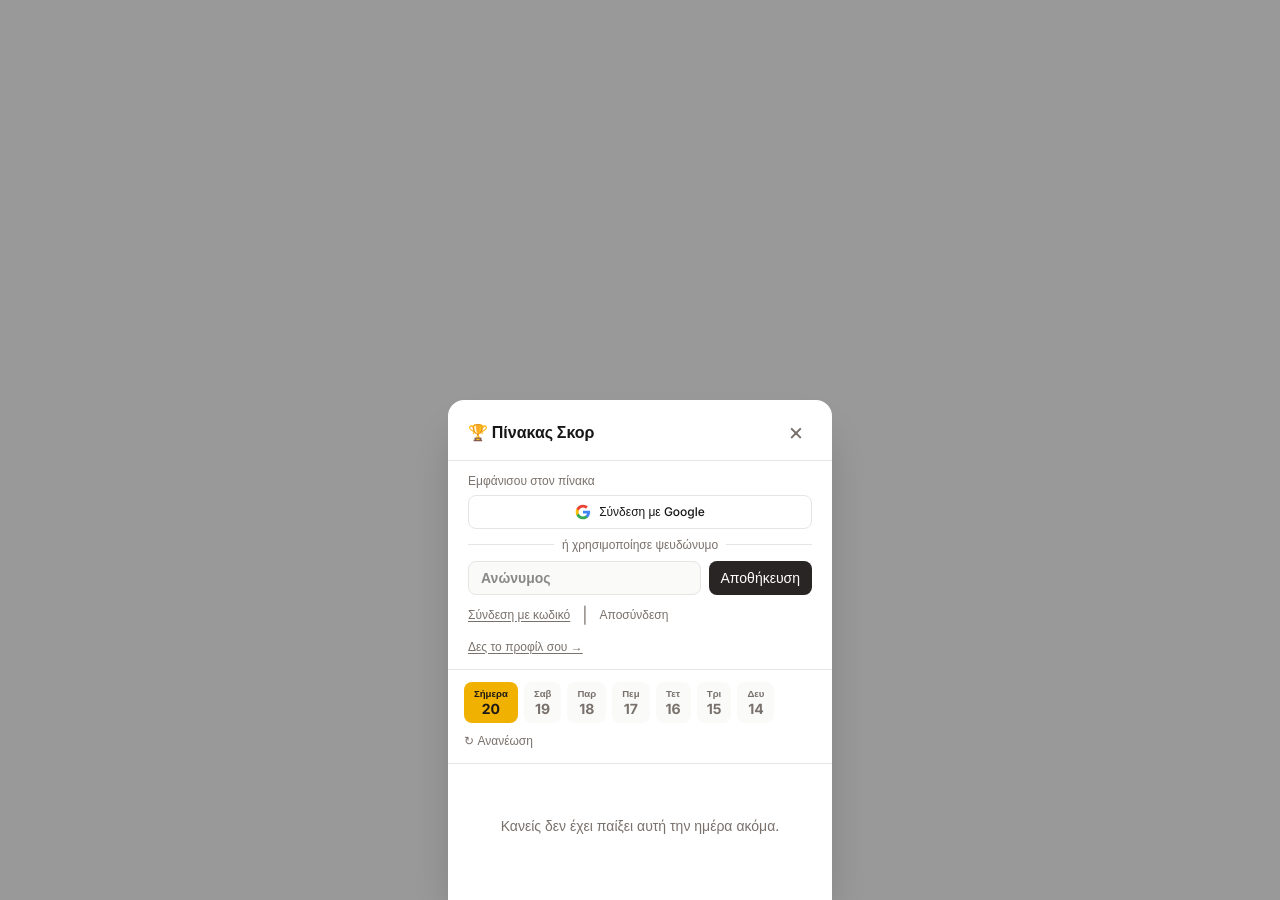
Test: LeaderboardModal — profile section (idle, unlinked) › clicking 'Αποσύνδεση' shows confirmation row
The width and height of the screenshot is (1280, 900).
What coordinates should you click on to do the following:
click the button "Αποσύνδεση"
I would click on:
 (634, 614)
Its box is [600,606,668,622].
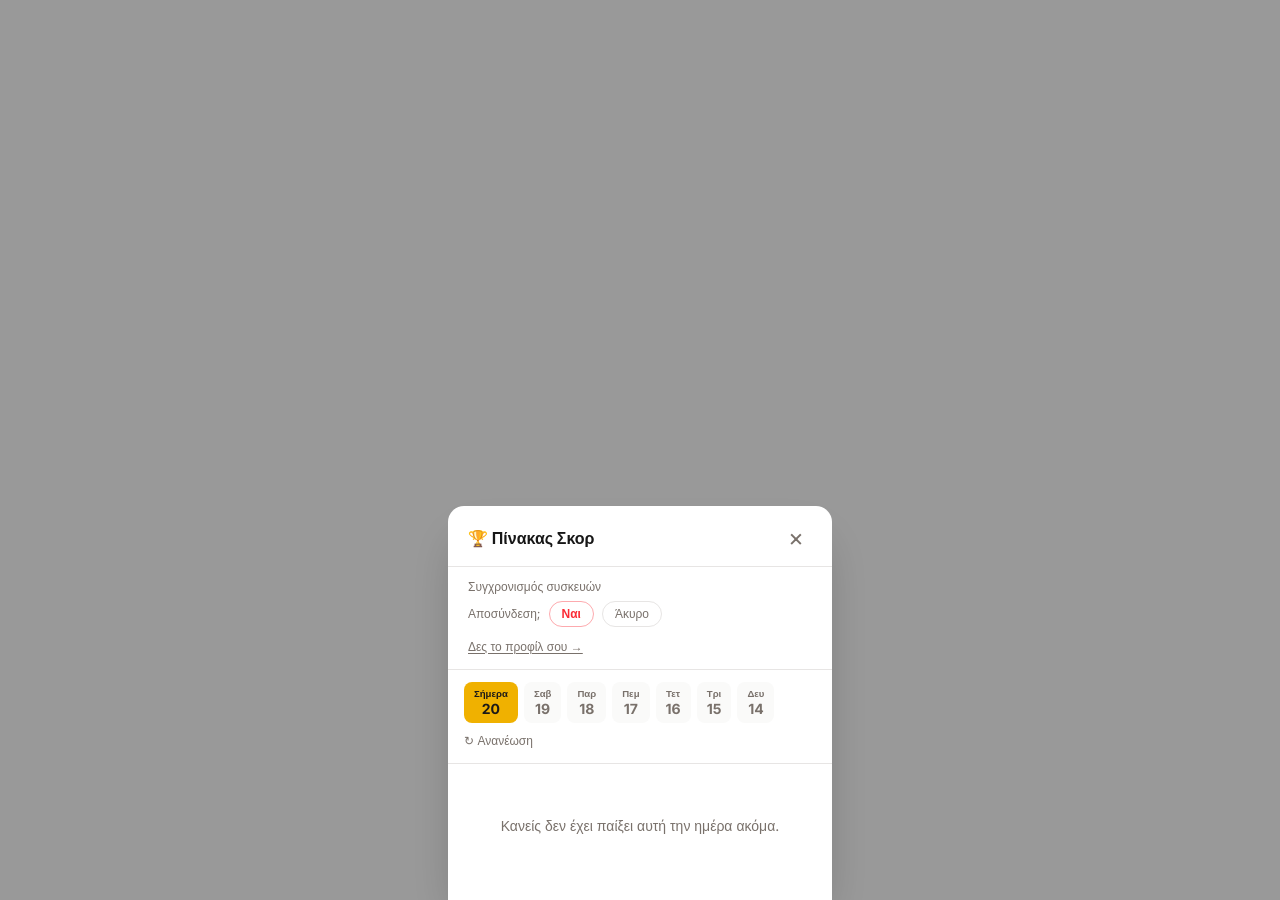
Check: the button with test id "btn-disconnect-confirm" is shown, box [548,600,594,626]
Check: the button with test id "btn-disconnect-cancel" is shown, box [602,600,662,626]
